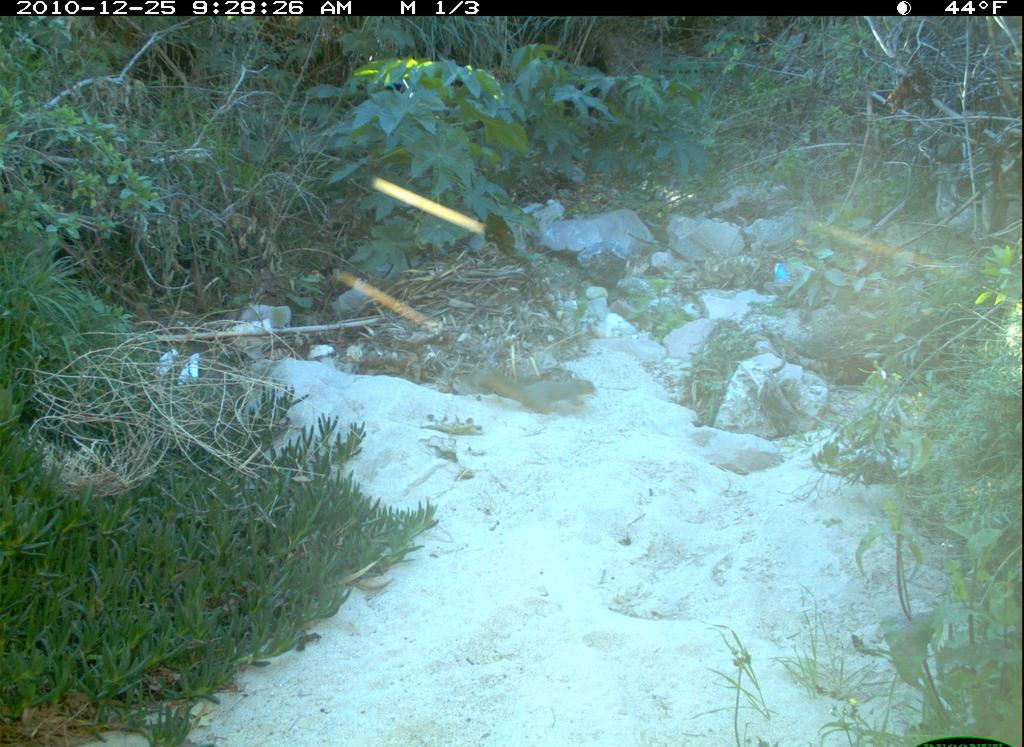squirrel: (472, 346, 598, 424)
